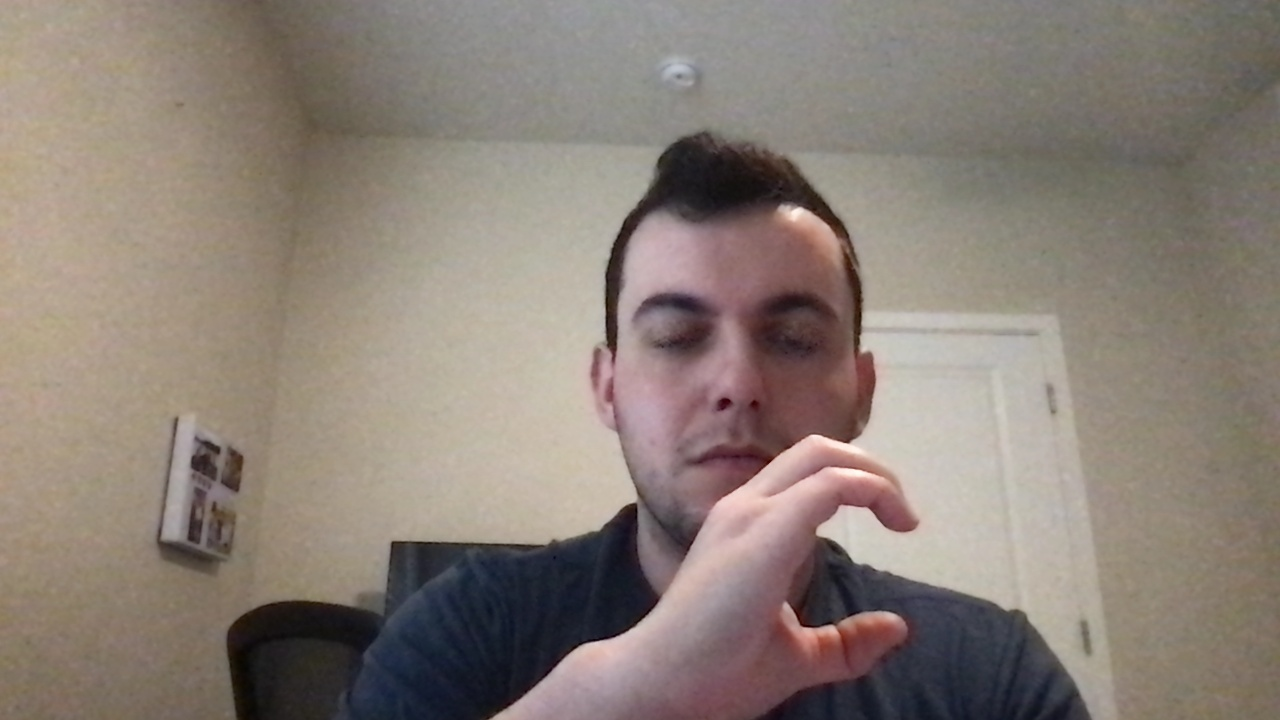c: (675, 434, 953, 708)
